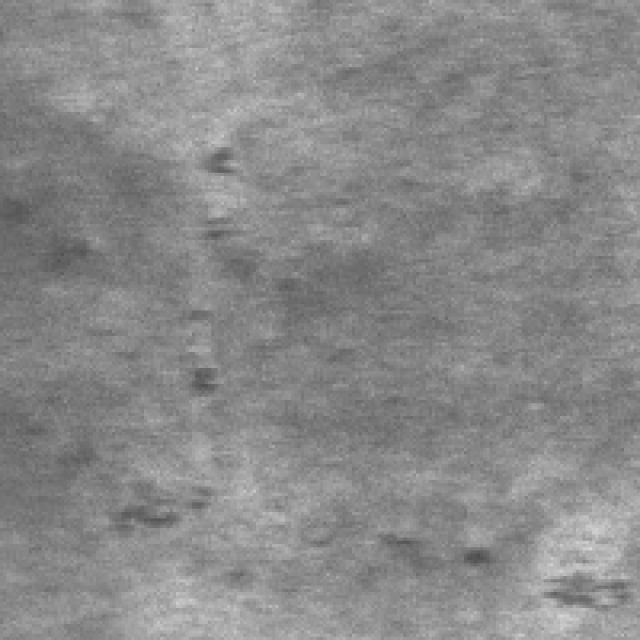rolled-in_scale: (90, 460, 624, 618), (144, 131, 262, 400)
